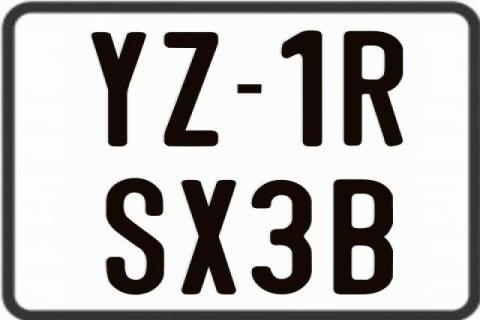0: (249, 179, 313, 297), (279, 30, 322, 146)
B: (331, 179, 394, 295)
R: (341, 32, 406, 150)
S: (106, 175, 169, 296)
X: (181, 179, 237, 296)
Y: (89, 29, 148, 149)
Z: (164, 31, 222, 147)
